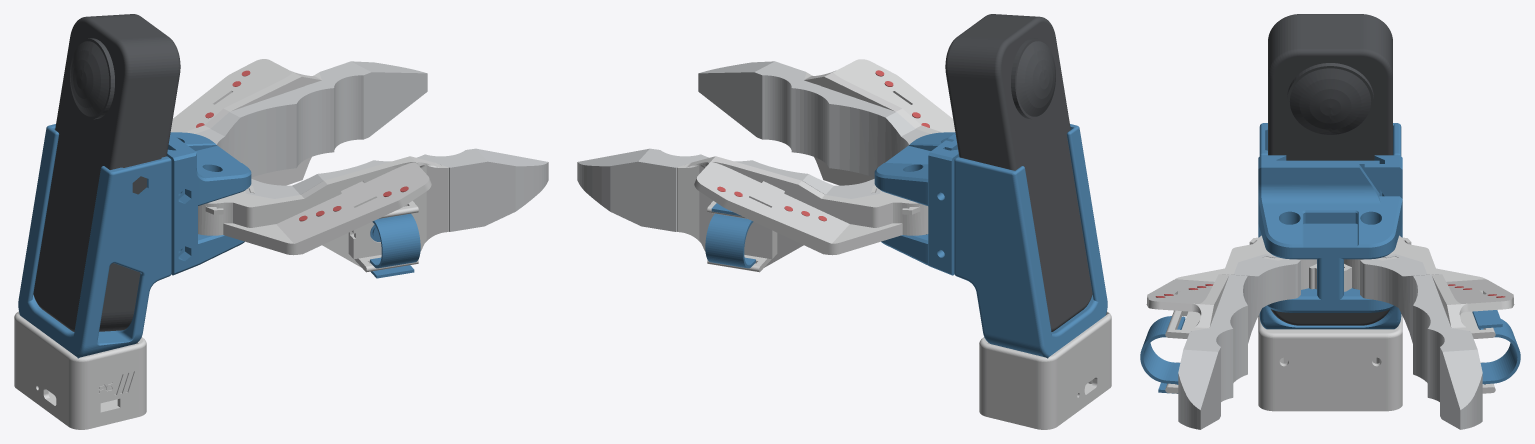
Rendered from pg_chopstick_data_right.glb.
3 views of the same model, side by side, from view 1: azimuth 30°, elevation 25°; view 2: azimuth 150°, elevation 25°; view 3: azimuth 270°, elevation 25° (orthographic). The views are drawn at different scales.
Parts seen in each view (by area): view 1: insta360_x5_envelope, x5_lite_frame, jaw_right_dc_button, tip_tpu_left, pg_pod, tip_tpu_right, chopstick_base_dc, jaw_left_dc, sleeve_strap_right, pg_pod_lid; view 2: insta360_x5_envelope, x5_lite_frame, jaw_left_dc, tip_tpu_right, pg_pod, tip_tpu_left, jaw_right_dc_button, chopstick_base_dc, chopstick_clip_dc, sleeve_strap_left, pg_pod_lid; view 3: insta360_x5_envelope, chopstick_base_dc, pg_pod, tip_tpu_left, tip_tpu_right, jaw_right_dc_button, jaw_left_dc, x5_lite_frame, sleeve_strap_left, sleeve_strap_right, chopstick_clip_dc, pg_pod_lid.
Part boxes in pixels (x1,y1,x2,y2): insta360_x5_envelope: (33, 14, 180, 331); x5_lite_frame: (18, 124, 171, 358); jaw_right_dc_button: (198, 156, 448, 272); tip_tpu_left: (196, 61, 427, 177); pg_pod: (14, 311, 146, 425); tip_tpu_right: (245, 148, 548, 231); chopstick_base_dc: (167, 132, 251, 275); jaw_left_dc: (170, 59, 321, 185); sleeve_strap_right: (370, 213, 420, 278); pg_pod_lid: (14, 382, 146, 429); insta360_x5_envelope: (945, 14, 1092, 331); x5_lite_frame: (954, 124, 1107, 358); jaw_left_dc: (677, 156, 928, 272); tip_tpu_right: (698, 61, 929, 177); pg_pod: (979, 311, 1111, 425); tip_tpu_left: (577, 148, 880, 231); jaw_right_dc_button: (804, 59, 955, 185); chopstick_base_dc: (874, 132, 957, 265); chopstick_clip_dc: (928, 140, 959, 275); sleeve_strap_left: (705, 203, 755, 268); pg_pod_lid: (979, 382, 1111, 429); insta360_x5_envelope: (1268, 14, 1392, 325); chopstick_base_dc: (1258, 155, 1402, 312); pg_pod: (1258, 314, 1402, 406); tip_tpu_left: (1360, 254, 1482, 429); tip_tpu_right: (1178, 254, 1300, 429); jaw_right_dc_button: (1146, 235, 1316, 393); jaw_left_dc: (1344, 235, 1514, 393); x5_lite_frame: (1259, 123, 1401, 329); sleeve_strap_left: (1472, 310, 1520, 384); sleeve_strap_right: (1140, 316, 1185, 393); chopstick_clip_dc: (1364, 155, 1402, 237); pg_pod_lid: (1258, 401, 1402, 411).
Size of the model in its own units: 0.2033 by 0.1583 by 0.14.
